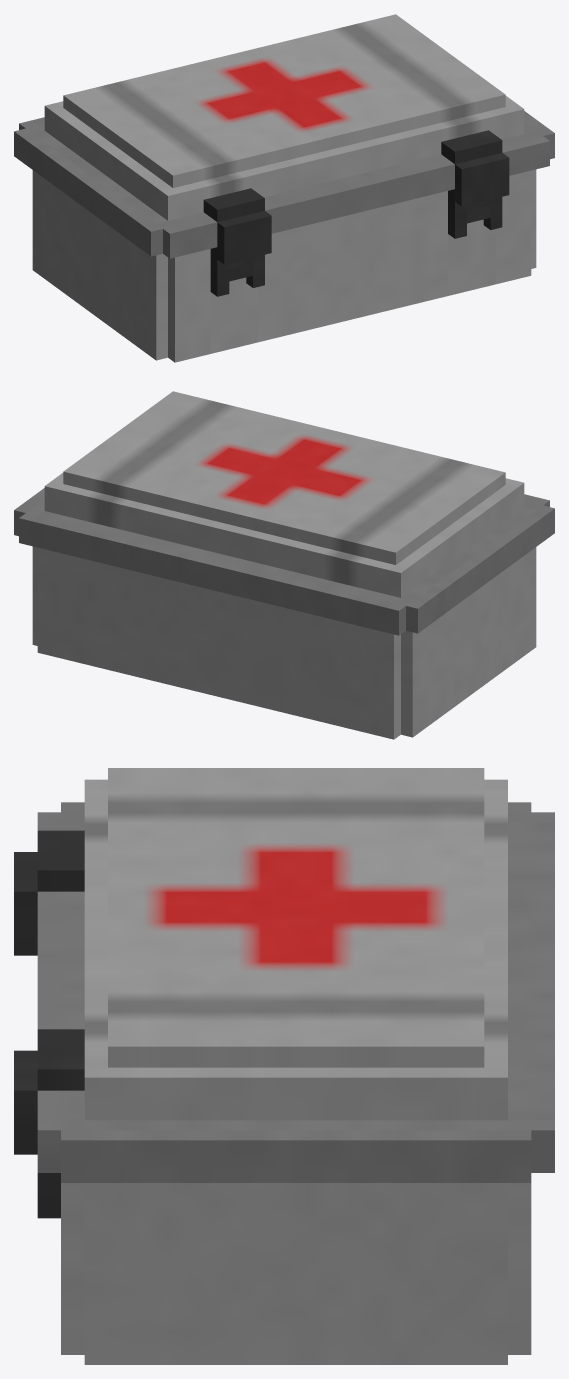
Rendered from MedKit.fbx.
3 renders of one model, top to bottom at view 1: azimuth 30°, elevation 25°; view 2: azimuth 150°, elevation 25°; view 3: azimuth 270°, elevation 25°, orthographic. The views are drawn at different scales.
Visible parts, largest first — view 1: MedKit; view 2: MedKit; view 3: MedKit.
Part boxes in pixels (bbox=[...]): MedKit: bbox=[14, 14, 554, 362]; MedKit: bbox=[14, 391, 554, 739]; MedKit: bbox=[14, 768, 554, 1364].
Size of the model in its own units: 34 by 14 by 23.
